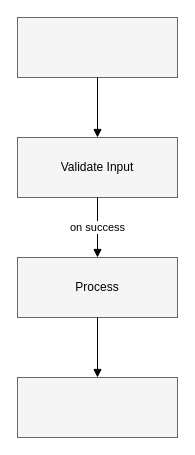
The diagram is 195 pixels wide and 455 high, and some of its shapes have lost their labels. Each missing label, with the box of its shape:
Done: (16, 376, 178, 438)
Start: (16, 16, 178, 78)
